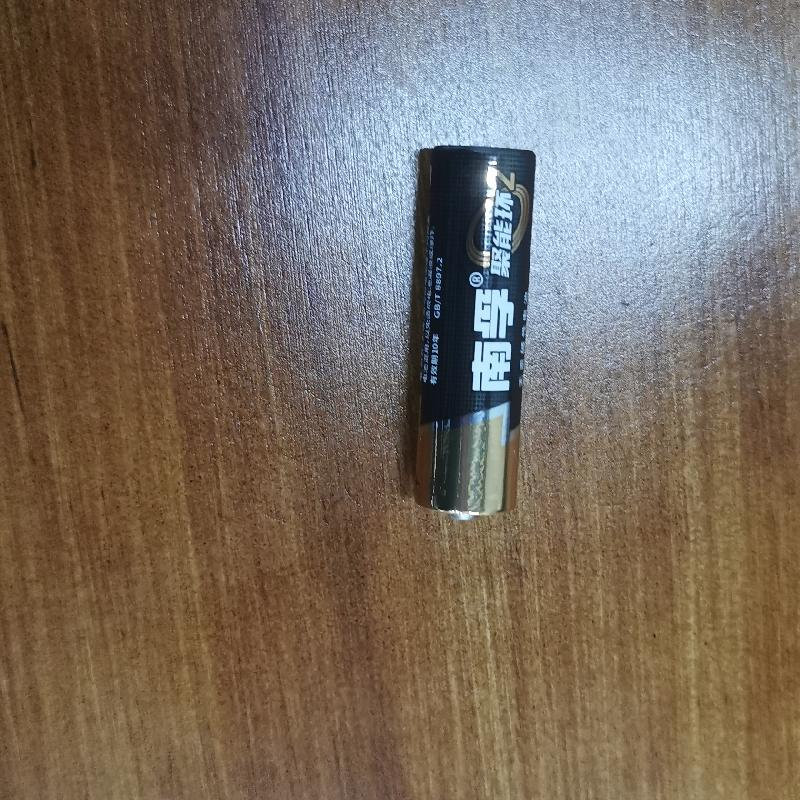battery: (404, 144, 548, 525)
